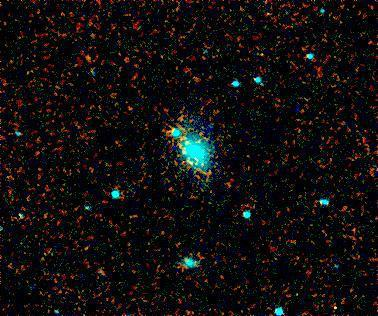star: (177, 146, 207, 176)
